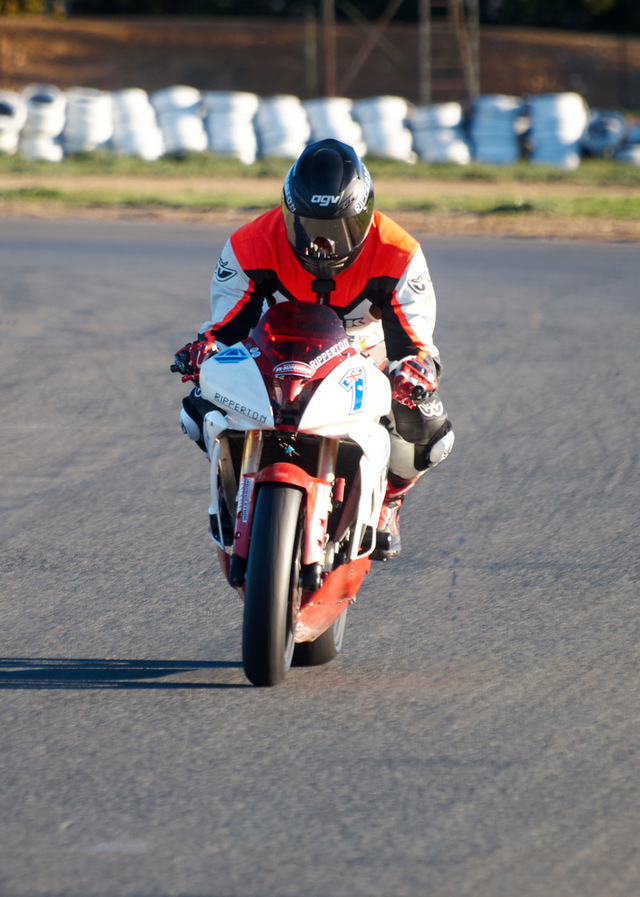helmet: (283, 156, 381, 262)
